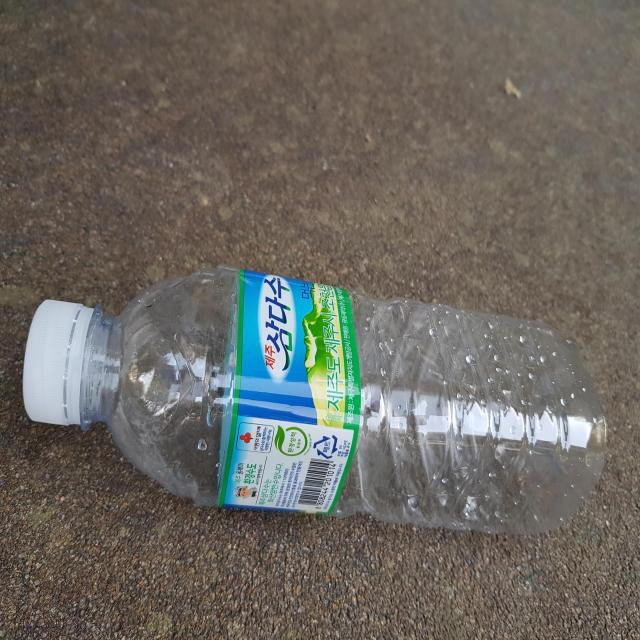plastic: (22, 266, 607, 535)
